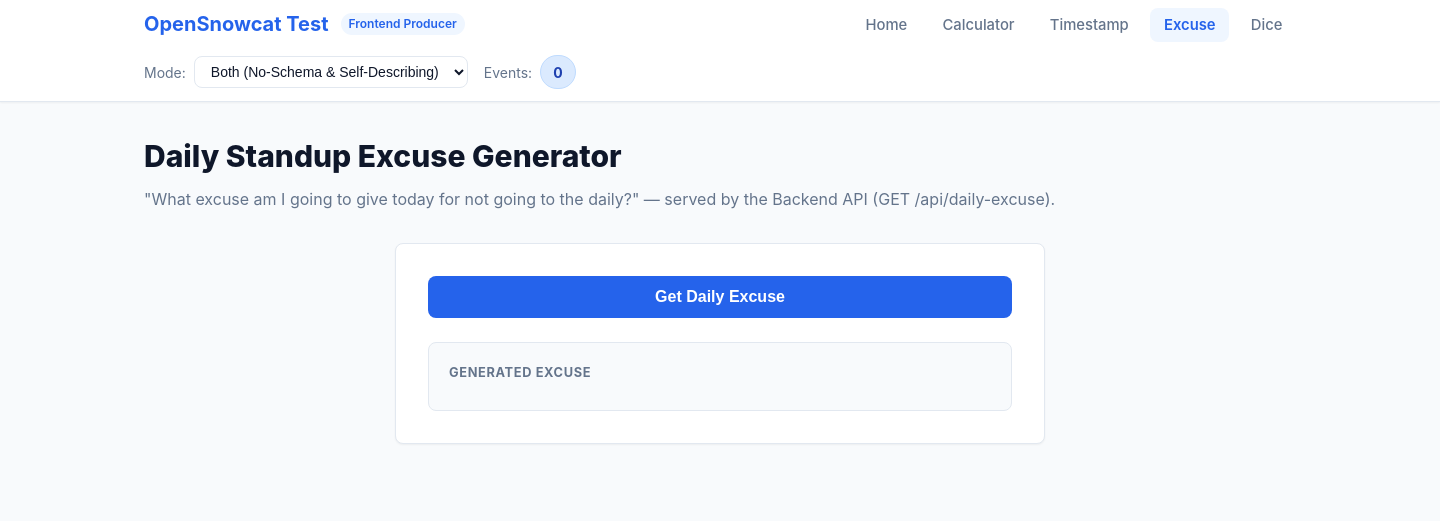
Test: Excuse Service - End-to-End Integration › completes daily excuse user journey: click generate -> API GET -> DOM update -> dual emission
What coordinates should you click on to do the following:
click the button with test id "btn-generate-excuse"
I would click on:
 (720, 297)
Its box is [428,276,1012,318].
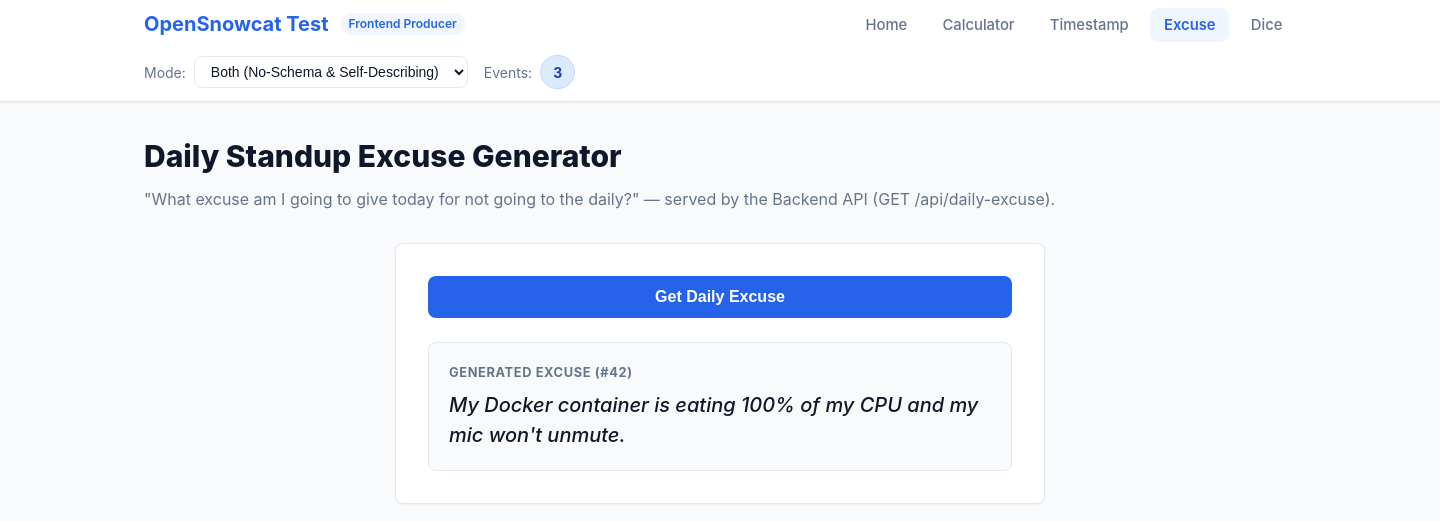
Check: the text with test id "excuse-result" reads "My Docker container is eating 100% of my CPU and my mic won't unmute.", box [449,393,978,447]
Check: the text "Generated Excuse (#42)" is shown, box [449,365,633,380]
Check: the text with test id "frontend-events-counter" reads "3", box [553,64,562,81]
